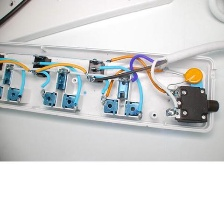three_eye_plug: (0, 38, 222, 136)
